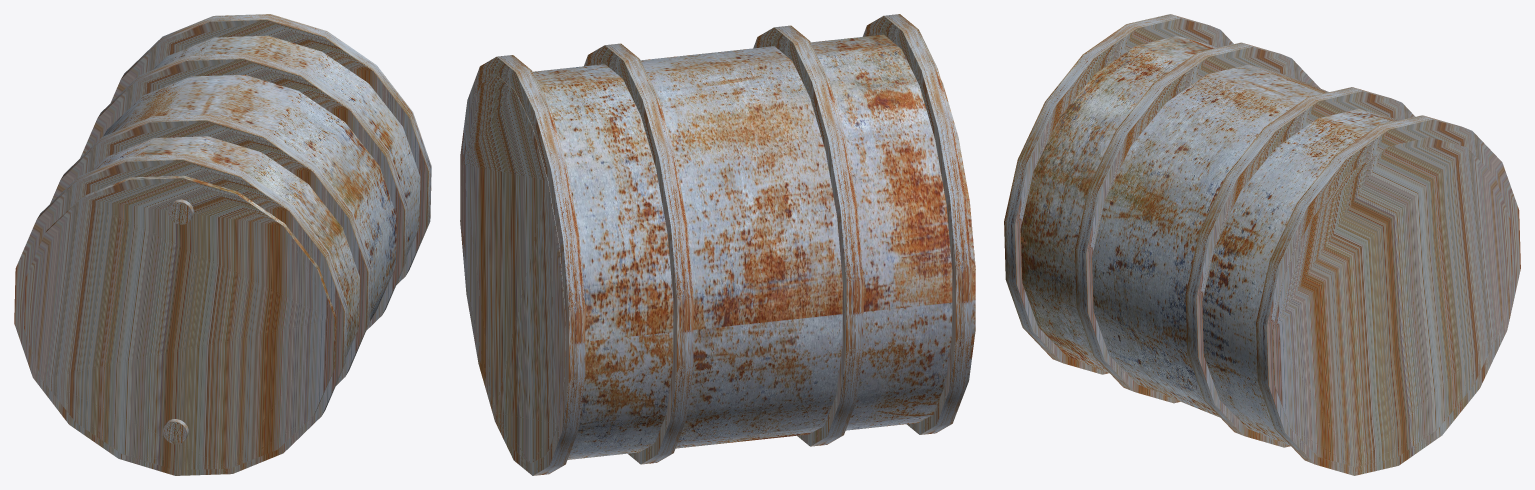
File: Oil Spill Textured.fbx
The picture shows the model from 3 angles, left to right: view 1: azimuth 30°, elevation 25°; view 2: azimuth 150°, elevation 25°; view 3: azimuth 270°, elevation 25°; orthographic projection. The views are drawn at different scales.
Parts seen in each view (by area): view 1: Cylinder003; view 2: Cylinder003; view 3: Cylinder003.
Part boxes in pixels (x1,y1,x2,y2): Cylinder003: [14, 14, 431, 475]; Cylinder003: [460, 14, 975, 475]; Cylinder003: [1004, 14, 1520, 475].
Size of what is drawn, in the model's own units: 129 by 94.15 by 129.
1 material, 1 textured.
